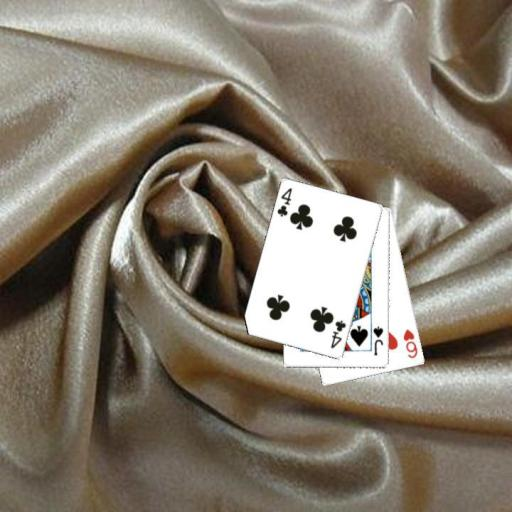4C: (328, 317, 348, 350), (274, 185, 294, 218)
6H: (401, 326, 420, 360)
JS: (371, 324, 385, 357)
